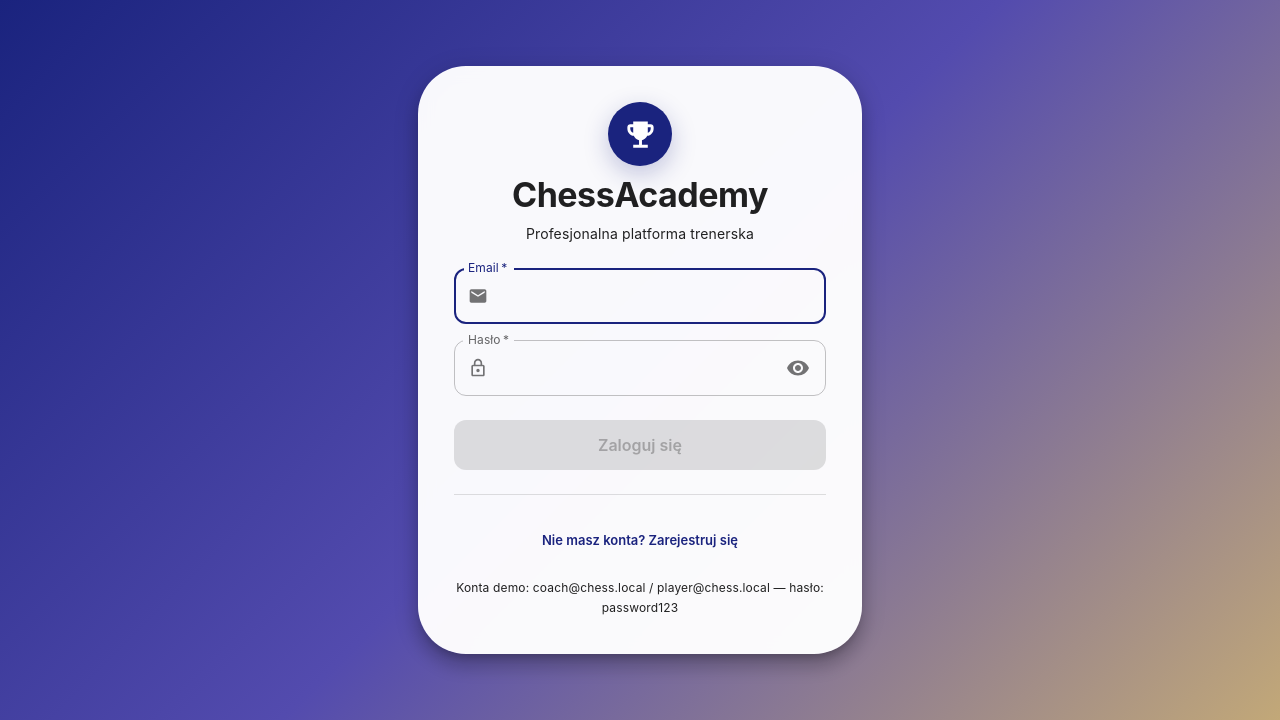
Test: Login › submit button is enabled when both fields are filled
The image size is (1280, 720).
Type "test@chess.local" into the field labelled "Email *" at [661, 296], box [496,268,826,324]
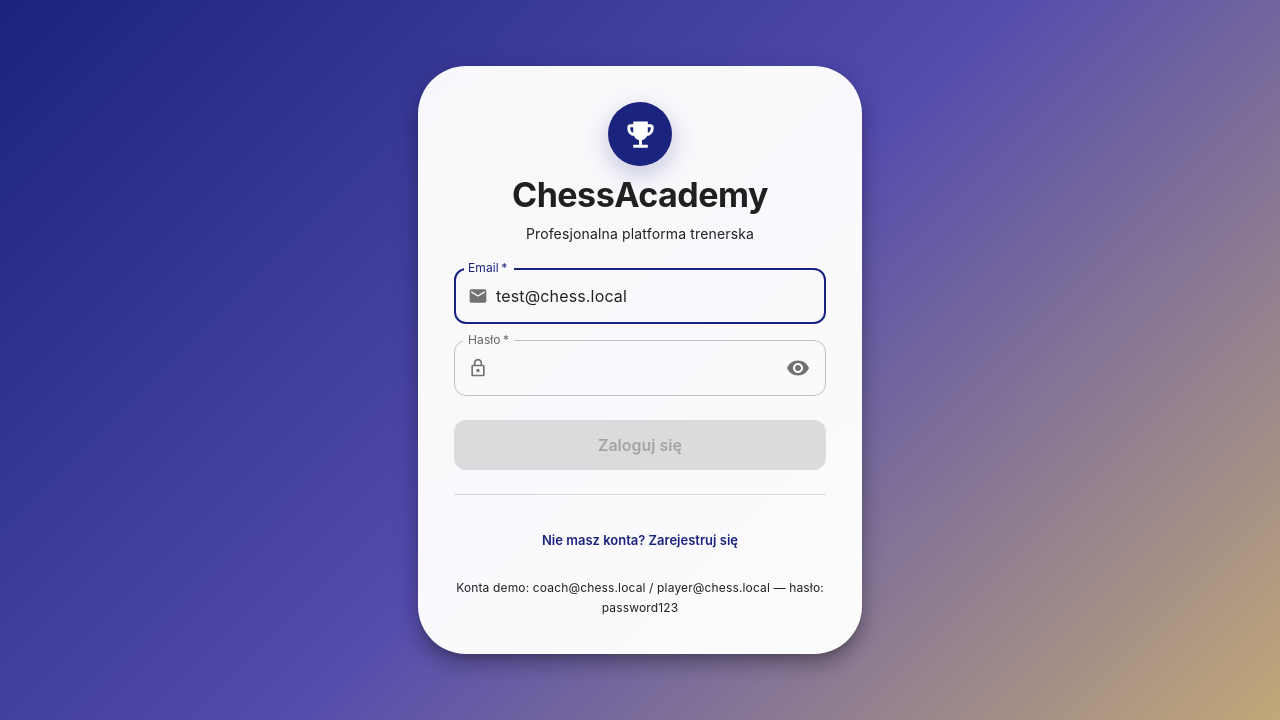
Type "password123" into the password field labelled "Hasło *" at [634, 368], box [496,340,773,396]
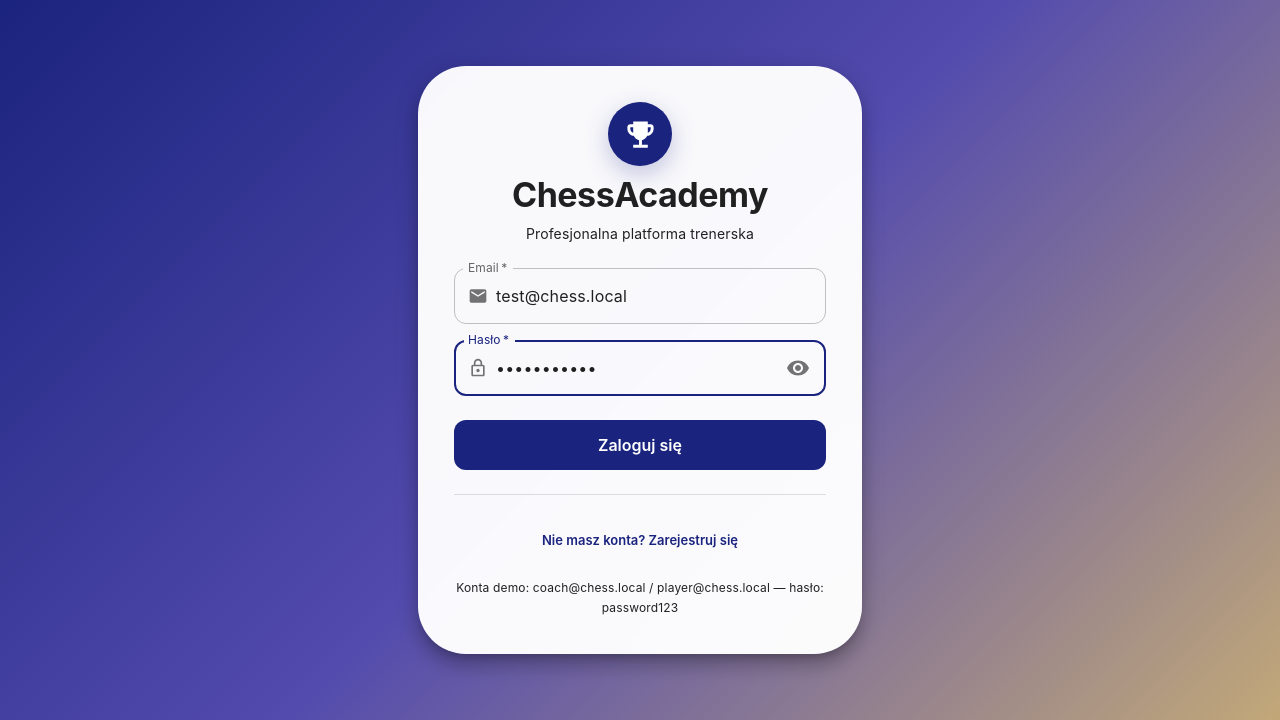
Now the button "Zaloguj się" is enabled, box [454,420,826,470]
